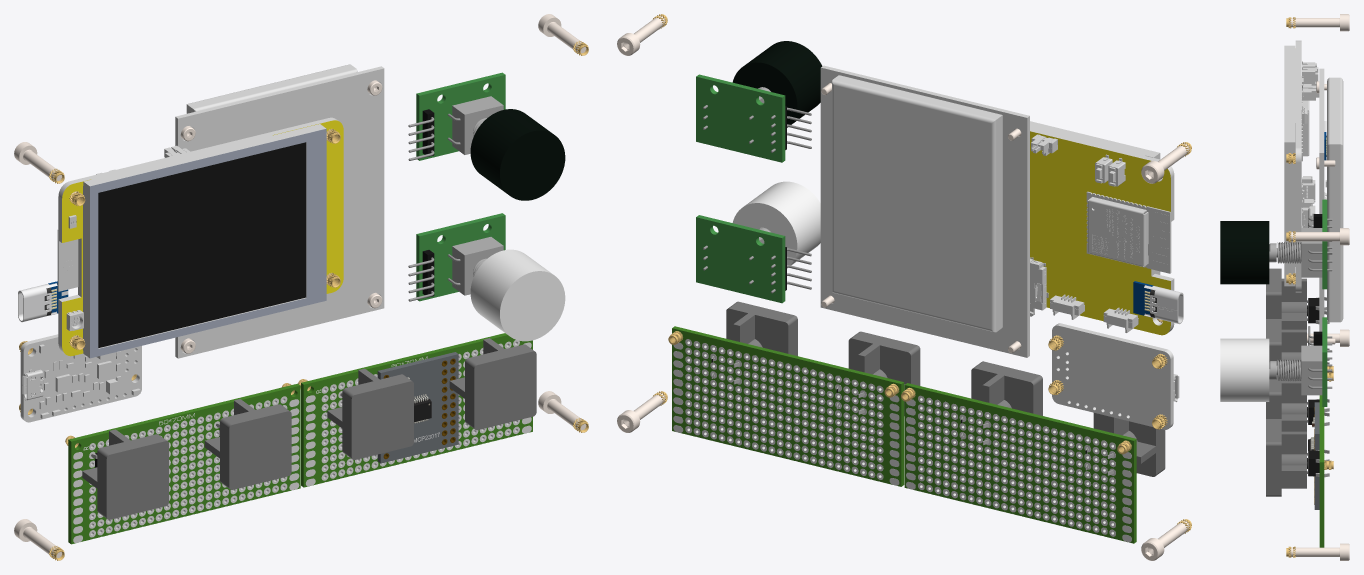
The model's file is MusicControllerInternal.glb.
3 renders of one model, left to right at view 1: azimuth 30°, elevation 25°; view 2: azimuth 150°, elevation 25°; view 3: azimuth 270°, elevation 25°, orthographic. The views are drawn at different scales.
Visible parts, largest first — view 1: CYD-single-part-1, BatteryEnclosureLid-1, PrototypePCB-30x70-2, Encoder_3.step-7/Component2_3.step-7 (×2), PrototypePCB-30x70-3, powerboost 1000c.f3d v3.stp-1/Product_Powerboost1000.stp-1/p, Rotary Encoder Knob.step-2, Rotary Encoder Knob.step-1, ButtonCap4-6, ButtonCap2-5, ButtonCap3-6, ButtonCap1-3 (+8 smaller); view 2: LipoBattery-1, CYD-single-part-1, PrototypePCB-30x70-2, PrototypePCB-30x70-3, BatteryEnclosureLid-1, Encoder_3.step-7/Component2_3.step-7 (×2), powerboost 1000c.f3d v3.stp-1/Product_Powerboost1000.stp-1/p, Rotary Encoder Knob.step-1, Rotary Encoder Knob.step-2, ButtonCap3-6, ButtonCap2-5, ButtonCap4-6 (+7 smaller); view 3: CYD-single-part-1, Encoder_3.step-7/Component2_3.step-7 (×2), LipoBattery-1, Rotary Encoder Knob.step-1, Rotary Encoder Knob.step-2, ButtonCap4-6, ButtonCap1-3, ButtonCap3-6, ButtonCap2-5, BatteryEnclosureLid-1, PrototypePCB-30x70-3, B18.3.1M - 3 x 0.5 x 16 Hex SHCS -- 16NHX-3 (+9 smaller).
Part boxes in pixels (x1,y1,x2,y2): CYD-single-part-1: [57, 117, 343, 358]; BatteryEnclosureLid-1: [175, 66, 384, 358]; PrototypePCB-30x70-2: [68, 383, 300, 544]; Encoder_3.step-7/Component2_3.step-7 (×2): [416, 72, 505, 301]; PrototypePCB-30x70-3: [301, 333, 532, 487]; powerboost 1000c.f3d v3.stp-1/Product_Powerboost1000.stp-1/p: [20, 334, 141, 422]; Rotary Encoder Knob.step-2: [470, 249, 565, 341]; Rotary Encoder Knob.step-1: [470, 109, 565, 200]; ButtonCap4-6: [449, 338, 536, 430]; ButtonCap2-5: [204, 399, 291, 489]; ButtonCap3-6: [327, 368, 413, 459]; ButtonCap1-3: [82, 429, 168, 519]; LipoBattery-1: [832, 75, 1002, 332]; CYD-single-part-1: [1030, 121, 1174, 335]; PrototypePCB-30x70-2: [904, 383, 1136, 543]; PrototypePCB-30x70-3: [672, 326, 904, 486]; BatteryEnclosureLid-1: [820, 65, 1029, 357]; Encoder_3.step-7/Component2_3.step-7 (×2): [696, 74, 785, 303]; powerboost 1000c.f3d v3.stp-1/Product_Powerboost1000.stp-1/p: [1052, 323, 1173, 429]; Rotary Encoder Knob.step-1: [732, 41, 822, 127]; Rotary Encoder Knob.step-2: [732, 181, 820, 268]; ButtonCap3-6: [848, 331, 920, 415]; ButtonCap2-5: [971, 361, 1042, 415]; ButtonCap4-6: [726, 301, 797, 355]; CYD-single-part-1: [1284, 40, 1319, 292]; Encoder_3.step-7/Component2_3.step-7 (×2): [1269, 199, 1327, 406]; LipoBattery-1: [1327, 77, 1343, 322]; Rotary Encoder Knob.step-1: [1220, 221, 1269, 284]; Rotary Encoder Knob.step-2: [1220, 338, 1269, 401]; ButtonCap4-6: [1266, 419, 1306, 496]; ButtonCap1-3: [1266, 268, 1306, 329]; ButtonCap3-6: [1266, 375, 1306, 431]; ButtonCap2-5: [1266, 319, 1306, 380]; BatteryEnclosureLid-1: [1319, 68, 1324, 331]; PrototypePCB-30x70-3: [1319, 395, 1324, 547]; B18.3.1M - 3 x 0.5 x 16 Hex SHCS -- 16NHX-3: [1289, 543, 1349, 560].
Bounding box in the file's own units: 0.1677 × 0.1166 × 0.0408.
